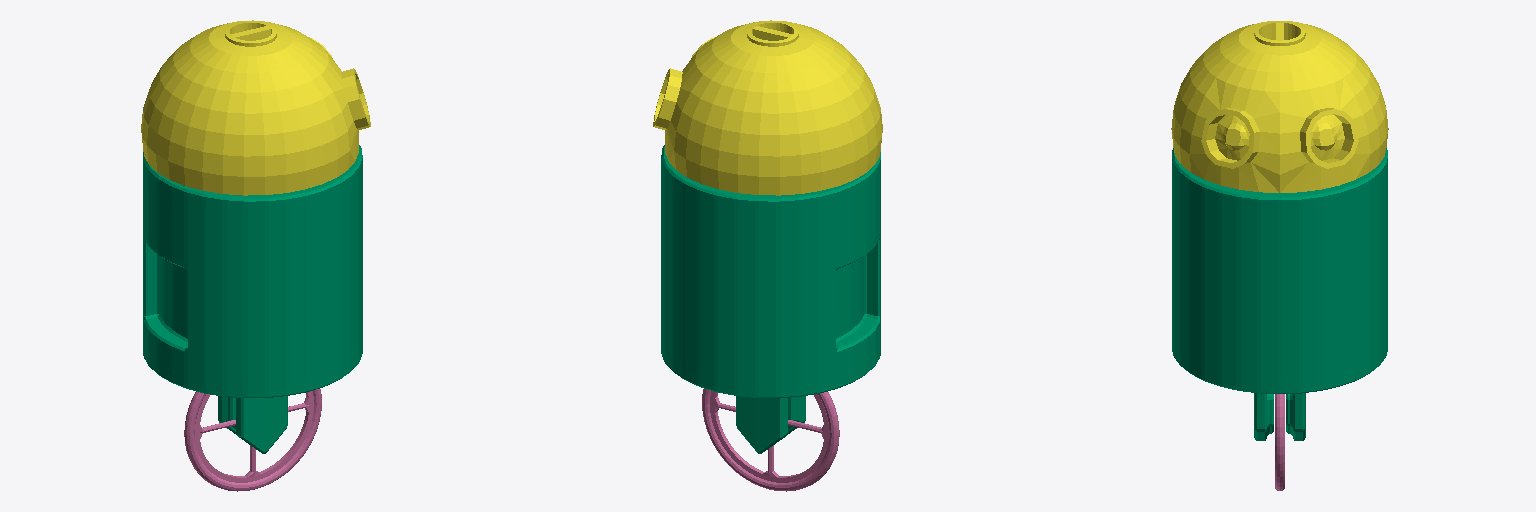
The robot description file, URDF, robot "unicycle":
<?xml version="1.0"?>
<robot name="unicycle">
        
  <link name="unicycle_base_link">
  </link>


  <!-- Body Mesh created by: https://skfb.ly/6znLG -->
  <link name="unicycle_chassis">

    <collision name="collision_unicycle_chassis">
      <geometry>
        <box size="1.0 1.0 1.0"/>
      </geometry>
    </collision>

    <inertial>
      <mass value="0.5"/>
      <origin rpy="0 0 0" xyz="0 0 0"/>
      <inertia ixx="0.0008333333333333335" ixy="0" ixz="0" iyy="0.0008333333333333335" iyz="0" izz="0.0008333333333333335"/>
    </inertial>

  </link>

  <joint name="unicycle_chassis_joint" type="fixed">
    <origin rpy="0 0 0" xyz="0 0 0" />
    <parent link="unicycle_base_link" />
    <child link="unicycle_chassis" />
  </joint>

    <!-- BODY -->
  <link name="unicycle_body">
    <visual name="visual_unicycle_body">    
      <origin rpy="0 0 -1.5708" xyz="0 0 0"/>
      <geometry>
        <mesh filename="package://unicycle_robot/meshes/unicycle/body.dae" scale="1.0 1.0 1.0"/>
      </geometry>
      <material name="unicycle_blue"/>
    </visual>

    <collision name="collision_unicycle_body">
      <origin rpy="0 0 -1.5708" xyz="0 0 0"/>
      <geometry>
        <mesh filename="package://unicycle_robot/meshes/unicycle/body.dae" scale="1.0 1.0 1.0"/>
      </geometry>
    </collision>

    <inertial>
      <mass value="0.01"/>
      <origin rpy="0 0 0" xyz="0 0 0"/>
      <inertia ixx="0.0016666666666666668" ixy="0" ixz="0" iyy="0.0016666666666666668" iyz="0" izz="0.0016666666666666668"/>
    </inertial>

  </link>

  <joint name="unicycle_body_joint" type="fixed">
    <origin rpy="0 0 0" xyz="0 0 0" />
    <parent link="unicycle_chassis" />
    <child link="unicycle_body" />
  </joint>

  <link name="unicycle_head">
    <visual name="visual_unicycle_head">
      <origin rpy="0 0 -1.5708" xyz="0 0 0"/>
      <geometry>
        <mesh filename="package://unicycle_robot/meshes/unicycle/head.dae" scale="1.0 1.0 1.0"/>
      </geometry>
      <material name="unicycle_blue"/>
    </visual>

    <collision name="collision_unicycle_head">
      <origin rpy="0 0 -1.5708" xyz="0 0 0"/>
      <geometry>
        <mesh filename="package://unicycle_robot/meshes/unicycle/head.dae" scale="1.0 1.0 1.0"/>
      </geometry>
    </collision>

    <inertial>
      <mass value="0.01"/>
      <origin rpy="0 0 0" xyz="0 0 0"/>
      <inertia ixx="0.0016666666666666668" ixy="0" ixz="0" iyy="0.0016666666666666668" iyz="0" izz="0.0016666666666666668"/>
    </inertial>

  </link>

  <joint name="unicycle_head_joint" type="fixed">
    <origin rpy="0 0 0" xyz="0 0 2.68355" />
    <parent link="unicycle_body" />
    <child link="unicycle_head" />
  </joint>

  <!-- Wheel Left -->
  <link name="left_wheel"> 


      <collision name="left_wheel_collision">
        <origin rpy="0 1.5707 1.5707" xyz="0 0 0"/>
        <geometry>
          <cylinder length="0.001" radius="0.71044"/>
        </geometry>
      </collision>

      <inertial>
        <origin rpy="0 1.5707 1.5707" xyz="0 0 0"/>
        <mass value="0.05"/>
        <inertia ixx="1.531666666666667e-05" ixy="0" ixz="0" iyy="1.531666666666667e-05" iyz="0" izz="3.0625000000000006e-05"/>
      </inertial>

  </link>

  <gazebo reference="left_wheel">
    <kp>1000000000000000000000000000.0</kp>
    <kd>1000000000000000000000000000.0</kd>
    <mu1>10.0</mu1>
    <mu2>10.0</mu2>
    <material>Gazebo/Red</material>
  </gazebo>


  <joint name="joint_left_wheel" type="continuous">
    <origin rpy="0 0 0" xyz="0 -0.5 0"/>
    <child link="left_wheel"/>
    <parent link="unicycle_chassis"/>
    <axis rpy="0 0 0" xyz="0 1 0"/>
    <limit effort="10000" velocity="1000"/>
    <joint_properties damping="1.0" friction="1.0"/>
  </joint>

  <!-- Wheel Right -->
  <link name="right_wheel">   

      <collision name="right_wheel_collision">
        <origin rpy="0 1.5707 1.5707" xyz="0 0 0"/>
        <geometry>
          <cylinder length="0.001" radius="0.71044"/>
        </geometry>
      </collision>

      <inertial>
        <origin rpy="0 1.5707 1.5707" xyz="0 0 0"/>
        <mass value="0.05"/>
        <inertia ixx="1.531666666666667e-05" ixy="0" ixz="0" iyy="1.531666666666667e-05" iyz="0" izz="3.0625000000000006e-05"/>
      </inertial>
  </link>

  <gazebo reference="right_wheel">
    <kp>1000000000000000000000000000.0</kp>
    <kd>1000000000000000000000000000.0</kd>
    <mu1>10.0</mu1>
    <mu2>10.0</mu2>
    <material>Gazebo/Green</material>
  </gazebo>

  <joint name="joint_right_wheel" type="continuous">  
    <origin rpy="0 0 0" xyz="0 0.5 0"/>
    <child link="right_wheel"/>
    <parent link="unicycle_chassis"/>
    <axis rpy="0 0 0" xyz="0 1 0"/>
    <limit effort="10000" velocity="1000"/>
    <joint_properties damping="1.0" friction="1.0"/>
  </joint>

  <link name="center_wheel">   

    <visual name="center_wheel_visual">
        <origin rpy="0 0 -1.5708" xyz="0 0 0"/>
        <geometry>
          <mesh filename="package://unicycle_robot/meshes/unicycle/wheel.dae" scale="1.0 1.0 1.0"/>
        </geometry>
      </visual>

      <collision name="center_wheel_collision">
        <origin rpy="0 1.5707 1.5707" xyz="0 0 0"/>
        <geometry>
          <cylinder length="0.001" radius="0.71044"/>
        </geometry>
      </collision>

      <inertial>
        <origin rpy="0 1.5707 1.5707" xyz="0 0 0"/>
        <mass value="0.05"/>
        <inertia ixx="1.531666666666667e-05" ixy="0" ixz="0" iyy="1.531666666666667e-05" iyz="0" izz="3.0625000000000006e-05"/>
      </inertial>

  </link>

  <gazebo reference="center_wheel">
    <kp>1000000000000000000000000000.0</kp>
    <kd>1000000000000000000000000000.0</kd>
    <mu1>1.0</mu1>
    <mu2>1.0</mu2>
  </gazebo>


  <joint name="joint_center_wheel" type="continuous">
    <origin rpy="0 0 0" xyz="0 0 0"/>
    <child link="center_wheel"/>
    <parent link="unicycle_chassis"/>
    <axis rpy="0 0 0" xyz="0 1 0"/>
    <limit effort="10000" velocity="1000"/>
    <joint_properties damping="1.0" friction="1.0"/>
  </joint>


  <!-- Caster Wheel Front -->
  <link name="front_yaw_link">

      <collision name="front_yaw_collision">
        <origin rpy="0 1.5707 1.5707" xyz="0 0 0"/>
        <geometry>
          <cylinder length="0.001" radius="0.0045000000000000005"/>
        </geometry>
      </collision>

      <inertial>
          <origin rpy="0 1.5707 1.5707" xyz="0 0 0"/>
          <mass value="0.001"/>
          <inertia ixx="5.145833333333334e-09" ixy="0" ixz="0" iyy="5.145833333333334e-09" iyz="0" izz="1.0125000000000003e-08"/>
      </inertial>

  </link>

  <joint name="front_yaw_joint" type="continuous">
    <origin rpy="0 0 0" xyz="0.280975 0 -0.487024" />
    <parent link="unicycle_chassis" />
    <child link="front_yaw_link" />
    <axis xyz="0 0 1" />
    <limit effort="1000.0" velocity="100.0" />
    <dynamics damping="0.0" friction="0.1"/>
  </joint>



  <link name="front_roll_link">

      <collision name="front_roll_collision">
        <origin rpy="0 1.5707 1.5707" xyz="0 0 0"/>
        <geometry>
          <cylinder length="0.001" radius="0.0045000000000000005"/>
        </geometry>
      </collision>

      <inertial>
          <origin rpy="0 1.5707 1.5707" xyz="0 0 0"/>
          <mass value="0.001"/>
          <inertia ixx="5.145833333333334e-09" ixy="0" ixz="0" iyy="5.145833333333334e-09" iyz="0" izz="1.0125000000000003e-08"/>
      </inertial>
  </link>

  <joint name="front_roll_joint" type="continuous">
    <origin rpy="0 0 0" xyz="0 0 0" />
    <parent link="front_yaw_link" />
    <child link="front_roll_link" />
    <axis xyz="1 0 0" />
    <limit effort="1000.0" velocity="100.0" />
    <dynamics damping="0.0" friction="0.1"/>
  </joint>


  <link name="front_pitch_link">

    <collision name="front_pitch_collision">
      <origin rpy="0 1.5707 1.5707" xyz="0 0 0"/>
      <geometry>
        <sphere radius="0.214185"/>
      </geometry>
    </collision>

    <inertial>
        <origin rpy="0 1.5707 1.5707" xyz="0 0 0"/>
        <mass value="0.214185"/>
        <inertia ixx="4e-08" ixy="0" ixz="0" iyy="4e-08" iyz="0" izz="4e-08"/>
    </inertial>
  </link>

  <gazebo reference="front_pitch_link">
    <kp>1000000000000000000000000000.0</kp>
    <kd>1000000000000000000000000000.0</kd>
    <mu1>0.5</mu1>
    <mu2>0.5</mu2>
  </gazebo>

  <joint name="front_pitch_joint" type="continuous">
    <origin rpy="0 0 0" xyz="0 0 0" />
    <parent link="front_roll_link" />
    <child link="front_pitch_link" />
    <axis xyz="0 1 0" />
    <limit effort="1000.0" velocity="100.0" />
    <dynamics damping="0.0" friction="0.1"/>
  </joint>

<!-- Caster Wheel Back -->
  <link name="back_yaw_link">

      <collision name="back_yaw_collision">
        <origin rpy="0 1.5707 1.5707" xyz="0 0 0"/>
        <geometry>
          <cylinder length="0.001" radius="0.0045000000000000005"/>
        </geometry>
      </collision>

      <inertial>
          <origin rpy="0 1.5707 1.5707" xyz="0 0 0"/>
          <mass value="0.001"/>
          <inertia ixx="5.145833333333334e-09" ixy="0" ixz="0" iyy="5.145833333333334e-09" iyz="0" izz="1.0125000000000003e-08"/>
      </inertial>
  </link>

  <joint name="back_yaw_joint" type="continuous">
    <origin rpy="0 0 0" xyz="-0.280975 0 -0.487024" />
    <parent link="unicycle_chassis" />
    <child link="back_yaw_link" />
    <axis xyz="0 0 1" />
    <limit effort="1000.0" velocity="100.0" />
    <dynamics damping="0.0" friction="0.1"/>
  </joint>



  <link name="back_roll_link">

      <collision name="back_roll_collision">
        <origin rpy="0 1.5707 1.5707" xyz="0 0 0"/>
        <geometry>
          <cylinder length="0.001" radius="0.0045000000000000005"/>
        </geometry>
      </collision>

      <inertial>
          <origin rpy="0 1.5707 1.5707" xyz="0 0 0"/>
          <mass value="0.001"/>
          <inertia ixx="5.145833333333334e-09" ixy="0" ixz="0" iyy="5.145833333333334e-09" iyz="0" izz="1.0125000000000003e-08"/>
      </inertial>
  </link>

  <joint name="back_roll_joint" type="continuous">
    <origin rpy="0 0 0" xyz="0 0 0" />
    <parent link="back_yaw_link" />
    <child link="back_roll_link" />
    <axis xyz="1 0 0" />
    <limit effort="1000.0" velocity="100.0" />
    <dynamics damping="0.0" friction="0.1"/>
  </joint>



  <link name="back_pitch_link">

    <collision name="back_pitch_collision">
      <origin rpy="0 1.5707 1.5707" xyz="0 0 0"/>
      <geometry>
        <sphere radius="0.214185"/>
      </geometry>
    </collision>

    <inertial>
        <origin rpy="0 1.5707 1.5707" xyz="0 0 0"/>
        <mass value="0.214185"/>
        <inertia ixx="4e-08" ixy="0" ixz="0" iyy="4e-08" iyz="0" izz="4e-08"/>
    </inertial>
  </link>

  <gazebo reference="back_pitch_link">
    <kp>1000000000000000000000000000.0</kp>
    <kd>1000000000000000000000000000.0</kd>
    <mu1>0.5</mu1>
    <mu2>0.5</mu2>
  </gazebo>

  <joint name="back_pitch_joint" type="continuous">
    <origin rpy="0 0 0" xyz="0 0 0" />
    <parent link="back_roll_link" />
    <child link="back_pitch_link" />
    <axis xyz="0 1 0" />
    <limit effort="1000.0" velocity="100.0" />
    <dynamics damping="0.0" friction="0.1"/>
  </joint>

  <!-- PLUGINS -->

  <!-- JOINT PUBLISHER -->
  <gazebo>
    <plugin name="unicycle_joint_state" filename="libgazebo_ros_joint_state_publisher.so">
      <ros>
          <remapping>~/out:=joint_states</remapping>
      </ros>
      <update_rate>30</update_rate>

      <joint_name>joint_left_wheel</joint_name>
      <joint_name>joint_right_wheel</joint_name>
      <joint_name>joint_center_wheel</joint_name>
      <joint_name>front_yaw_joint</joint_name>
      <joint_name>back_yaw_joint</joint_name>
      <joint_name>front_roll_joint</joint_name>
      <joint_name>back_roll_joint</joint_name>
      <joint_name>front_pitch_joint</joint_name>
      <joint_name>back_pitch_joint</joint_name>
      
    </plugin>
  </gazebo>

  <!-- Differential drive -->
  <gazebo>
    <plugin filename="libgazebo_ros_diff_drive.so" name="differential_drive_controller">
        <ros>
            <remapping>/odom:=/unicycle_odom</remapping>
            <remapping>/cmd_vel:=/unicycle_cmd_vel</remapping>
        </ros>
      <!-- wheels -->
      <left_joint>joint_right_wheel</left_joint>
      <right_joint>joint_left_wheel</right_joint>

      <!-- kinematics -->
      <wheel_separation>1.0</wheel_separation>
      <wheel_diameter>1.42088</wheel_diameter>

      <!-- limits -->
      <max_wheel_torque>1.0</max_wheel_torque>
      <max_wheel_acceleration>2.0</max_wheel_acceleration>

      <!-- output -->
      <publish_odom>true</publish_odom>
      <publish_odom_tf>true</publish_odom_tf>

      <odometry_frame>odom</odometry_frame>
      <robot_base_frame>unicycle_base_link</robot_base_frame>

    </plugin>
  </gazebo>

  
</robot>

--- Facts derived from the render (not from the file) ---
The picture shows the robot from 3 angles, left to right: view 1: azimuth 30°, elevation 25°; view 2: azimuth 150°, elevation 25°; view 3: azimuth 270°, elevation 25°; orthographic projection.
Robot: unicycle — 13 links, 12 joints (9 continuous, 3 fixed); root link unicycle_base_link; default pose: all joints at 0.
Links seen in each view (by area): view 1: unicycle_body, unicycle_head, center_wheel; view 2: unicycle_body, unicycle_head, center_wheel; view 3: unicycle_body, unicycle_head, center_wheel.
Link boxes in pixels (<box>): unicycle_body: <box>143,145,362,453</box>; unicycle_head: <box>141,20,370,195</box>; center_wheel: <box>184,389,321,491</box>; unicycle_body: <box>661,145,880,453</box>; unicycle_head: <box>653,20,882,195</box>; center_wheel: <box>702,389,839,491</box>; unicycle_body: <box>1172,148,1387,440</box>; unicycle_head: <box>1171,21,1388,192</box>; center_wheel: <box>1275,394,1284,490</box>.
Bounding box of the posed robot: 2.04 × 2 × 4.59 m (x, y, z).
3 mesh visuals loaded from 3 distinct referenced files (3 Collada DAE).